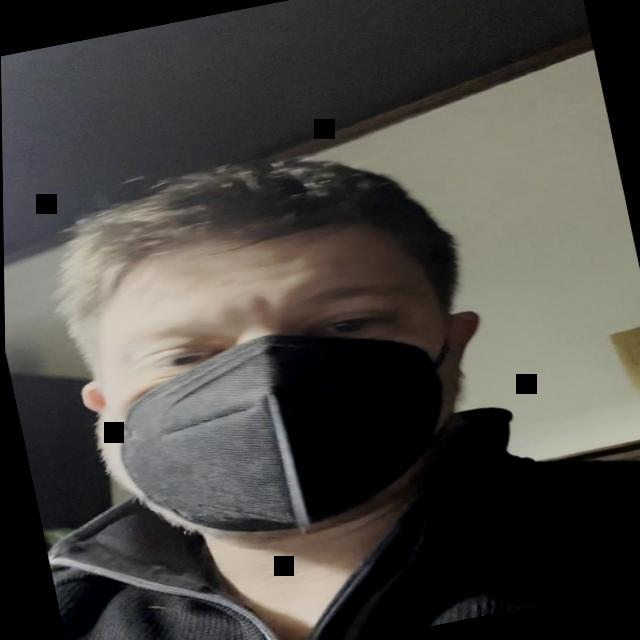Mask: (55, 200, 486, 570)
